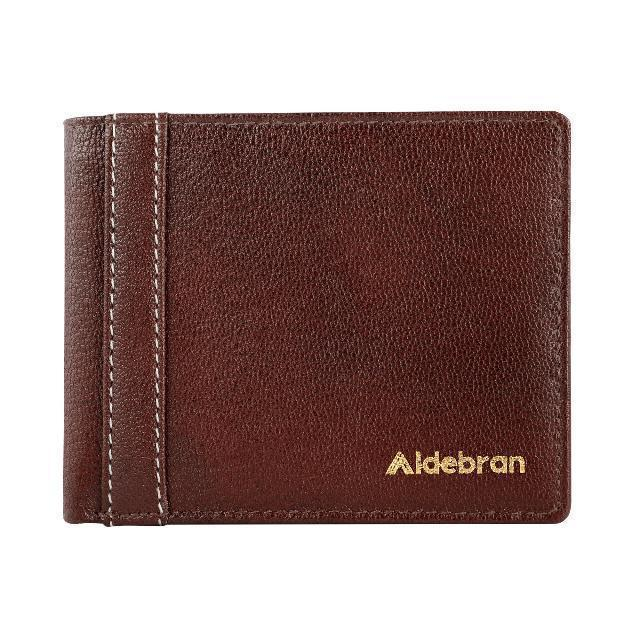wallet: (58, 110, 570, 524)
